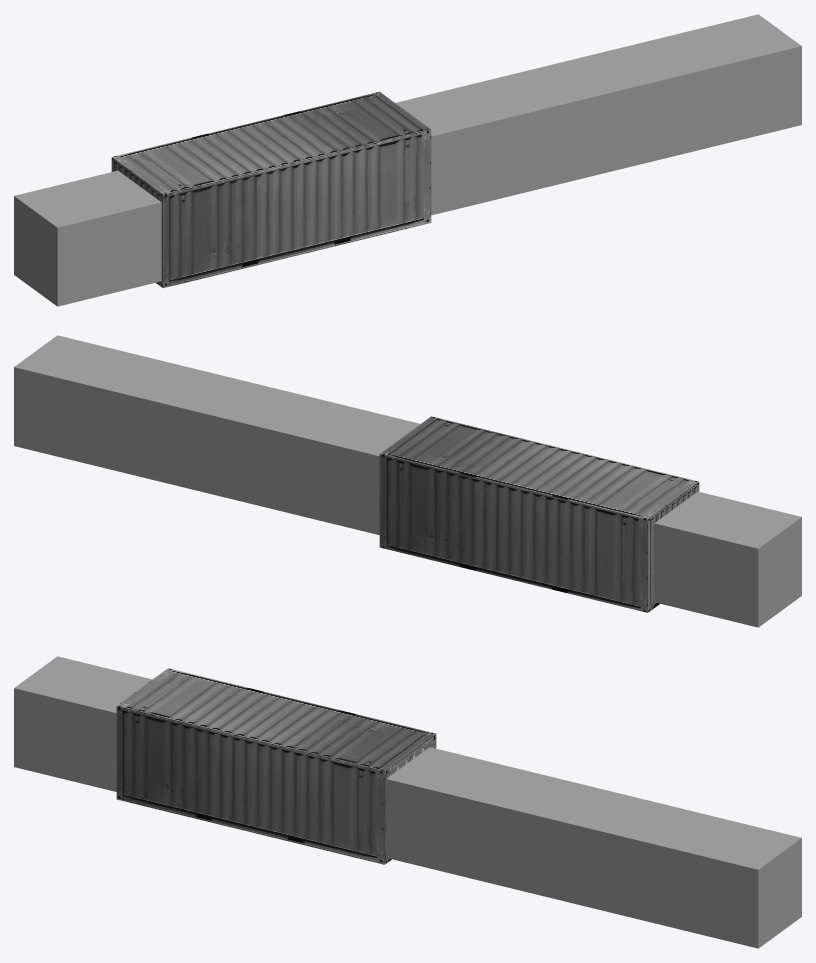
Rendered from oPENcON2.fbx.
3 renders of one model, top to bottom at view 1: azimuth 30°, elevation 25°; view 2: azimuth 150°, elevation 25°; view 3: azimuth 330°, elevation 25°, orthographic.
Parts seen in each view (by area): view 1: pCube1, Container5:Container, polySurface1; view 2: pCube1, Container5:Container, polySurface1; view 3: pCube1, Container5:Container, polySurface1.
Part boxes in pixels (x1,y1,x2,y2): pCube1: (14, 14, 801, 306); Container5:Container: (111, 91, 431, 288); polySurface1: (111, 158, 162, 285); pCube1: (14, 335, 801, 627); Container5:Container: (379, 416, 699, 612); polySurface1: (648, 482, 699, 611); pCube1: (14, 656, 801, 948); Container5:Container: (116, 668, 436, 864); polySurface1: (384, 734, 436, 864).
Bounding box in the file's own units: 8.34 × 1 × 1.
